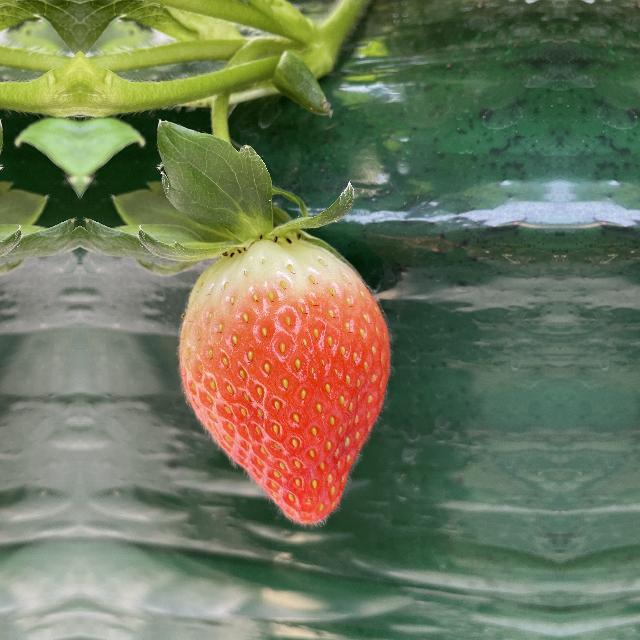Health_100: (176, 242, 397, 526)
